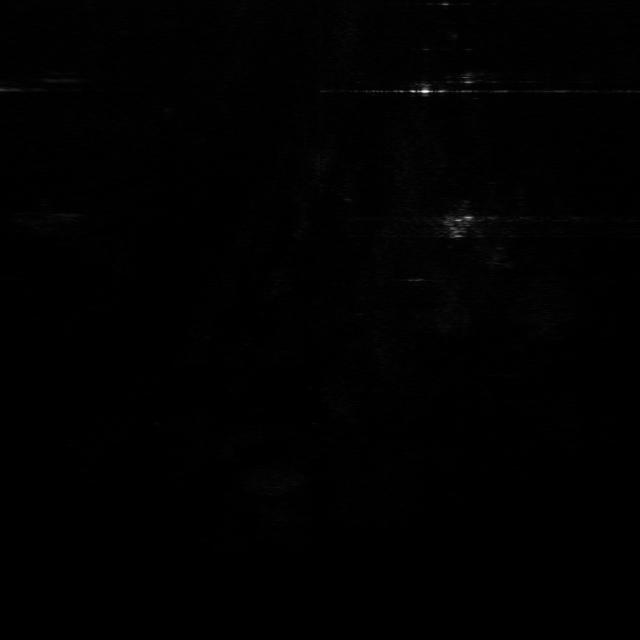rov: (441, 213, 478, 240)
